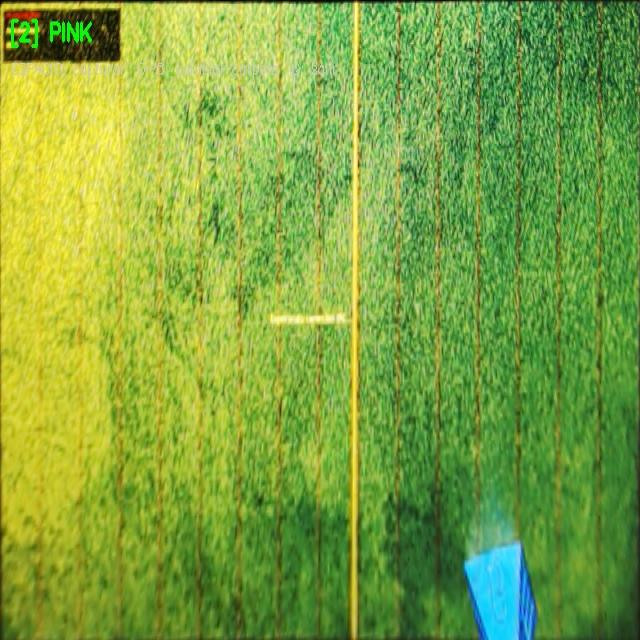pink: (464, 541, 536, 639)
